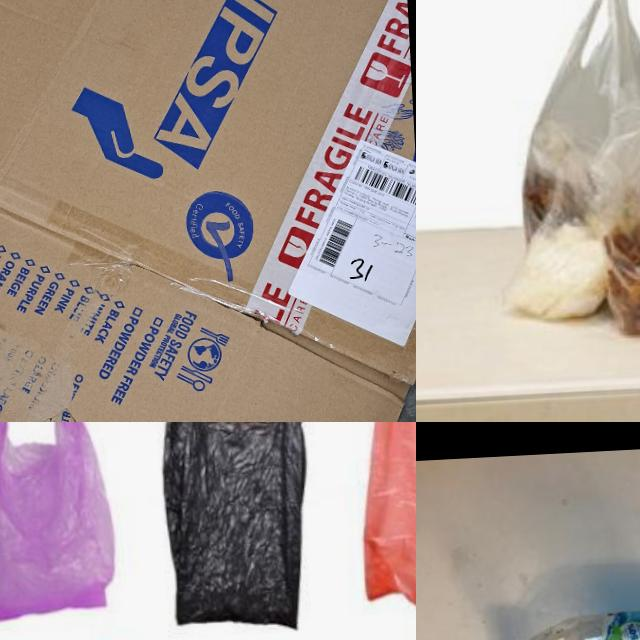papelão: (0, 0, 416, 422)
sacola plástica: (141, 422, 325, 638), (500, 0, 640, 254), (0, 422, 134, 638), (507, 159, 606, 370), (341, 422, 416, 640), (589, 104, 640, 374)
